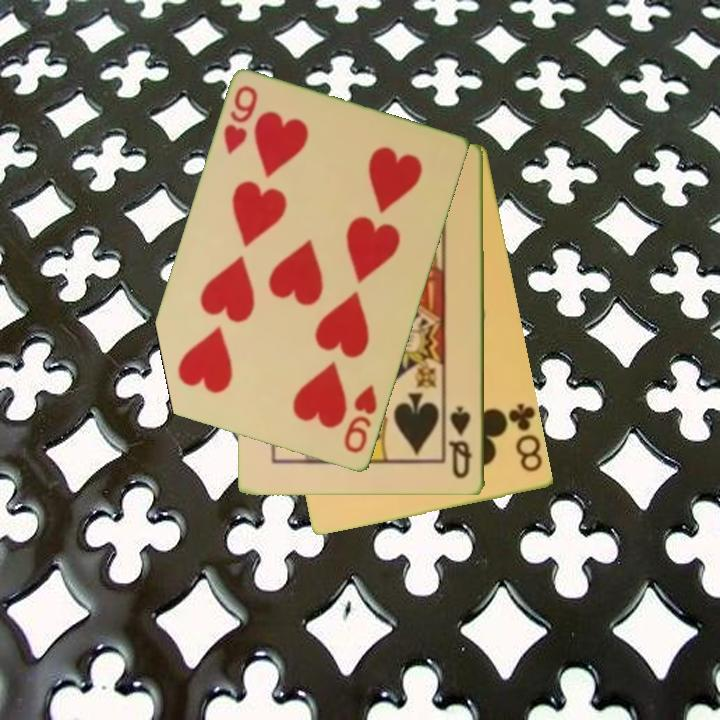8c: (501, 400, 546, 475)
9h: (220, 82, 261, 158), (341, 381, 381, 457)
Qs: (447, 403, 475, 482)
